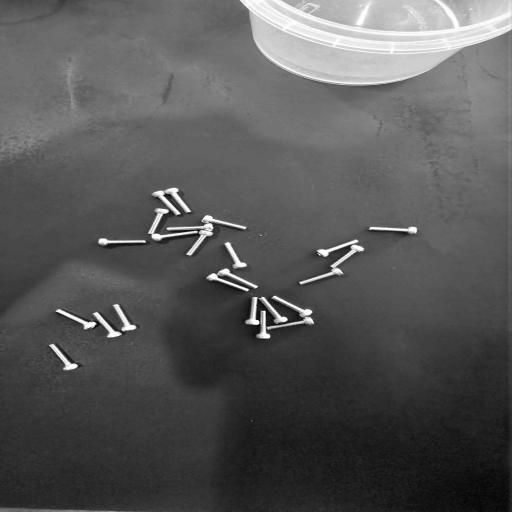Bolt: (272, 296, 312, 317), (151, 190, 182, 216), (330, 245, 364, 268), (217, 269, 258, 288), (56, 310, 96, 329), (49, 344, 78, 370), (206, 274, 249, 291), (93, 312, 122, 337), (299, 268, 343, 284), (317, 240, 358, 257), (164, 188, 191, 213), (260, 298, 287, 323), (186, 230, 212, 255), (113, 304, 137, 331), (202, 216, 246, 230), (225, 243, 247, 269), (268, 317, 313, 329), (148, 209, 168, 234), (152, 231, 199, 241), (245, 297, 259, 325), (256, 310, 270, 338), (98, 239, 147, 246), (369, 227, 417, 234), (167, 224, 213, 231)
